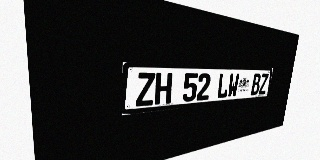2: (196, 73, 211, 101)
5: (182, 73, 198, 102)
B: (250, 73, 261, 95)
H: (154, 73, 173, 105)
L: (216, 73, 230, 99)
W: (227, 73, 240, 98)
Z: (136, 73, 155, 107), (258, 73, 269, 95)
